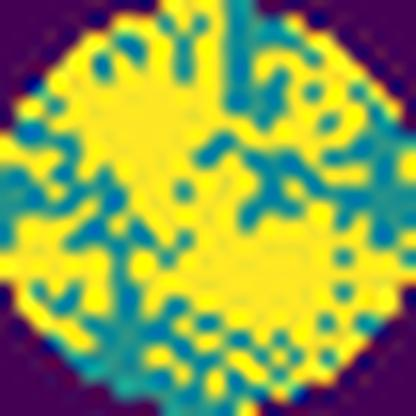Random: (0, 0, 416, 387)
